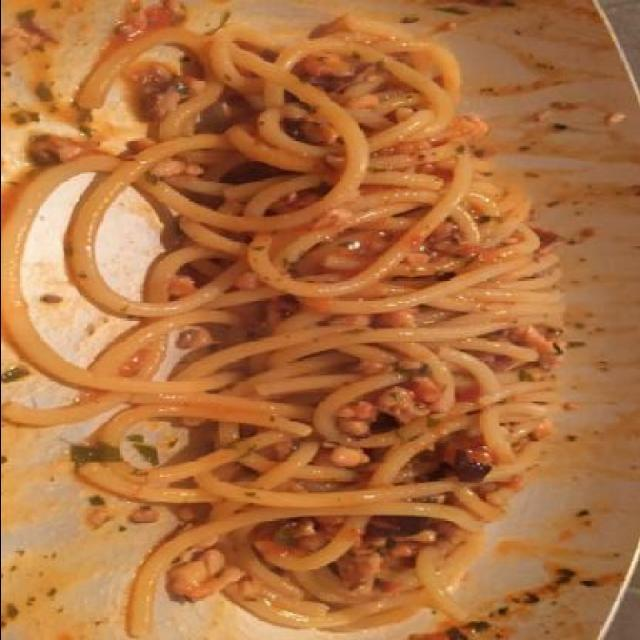Pasta al ragu: (89, 23, 571, 620)
